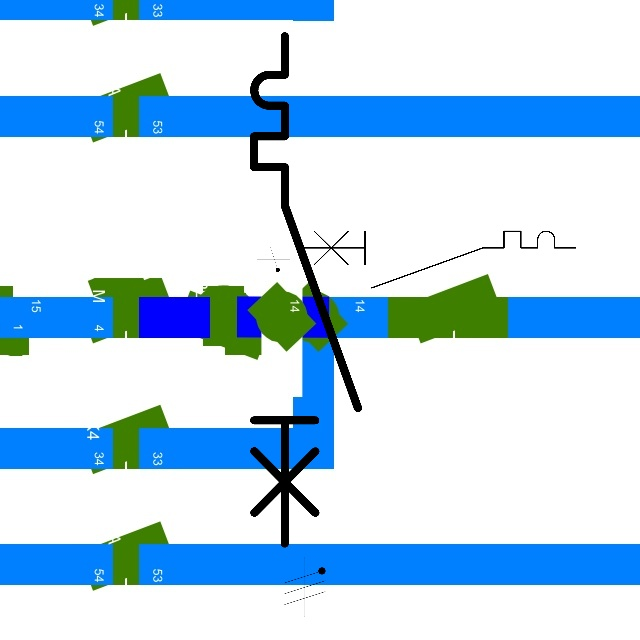interruptor_termomagnetico: (241, 23, 371, 556), (290, 224, 583, 295)
